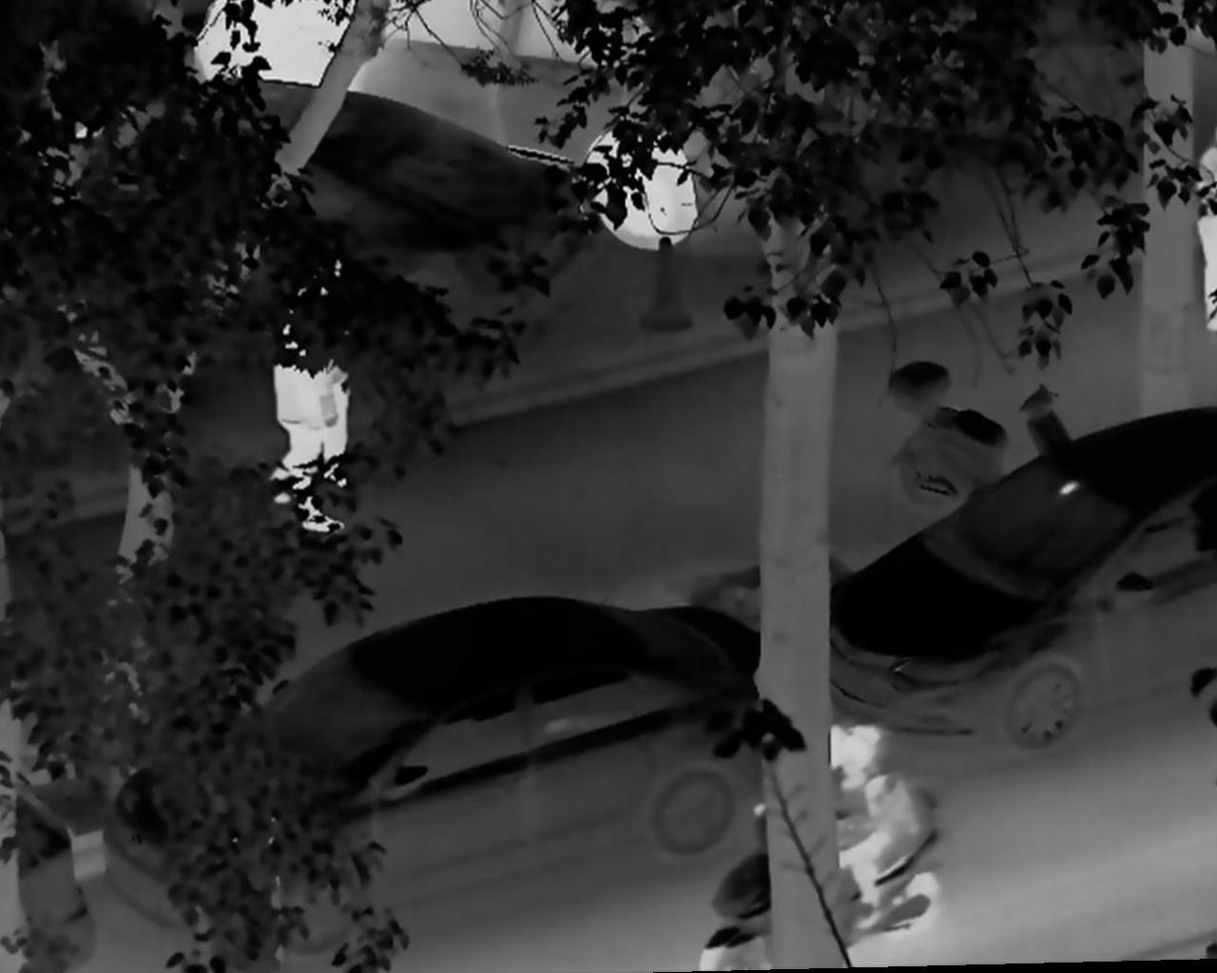person: (267, 241, 359, 500), (268, 284, 345, 541), (828, 714, 917, 935), (1188, 138, 1217, 336)
